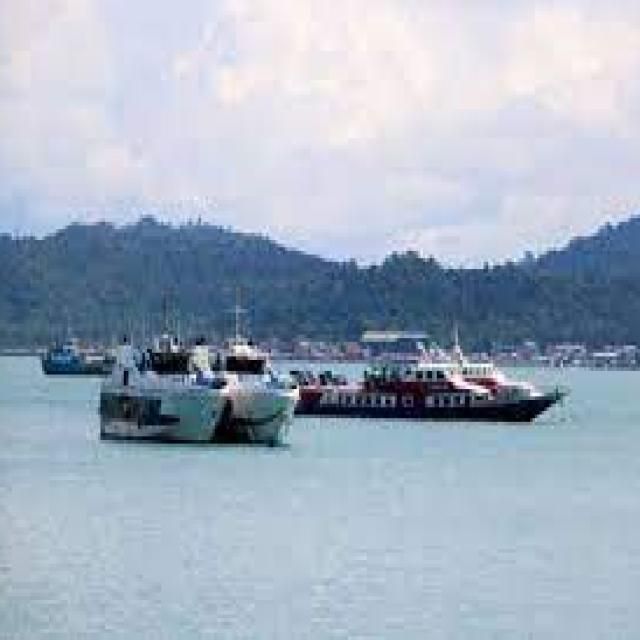houseboat: (95, 347, 232, 446)
passenger ship: (302, 309, 572, 422)
